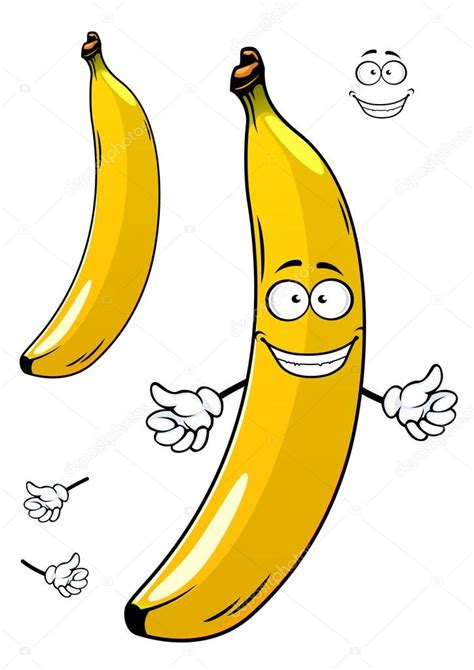banana: (122, 105, 372, 645), (17, 59, 161, 389)
